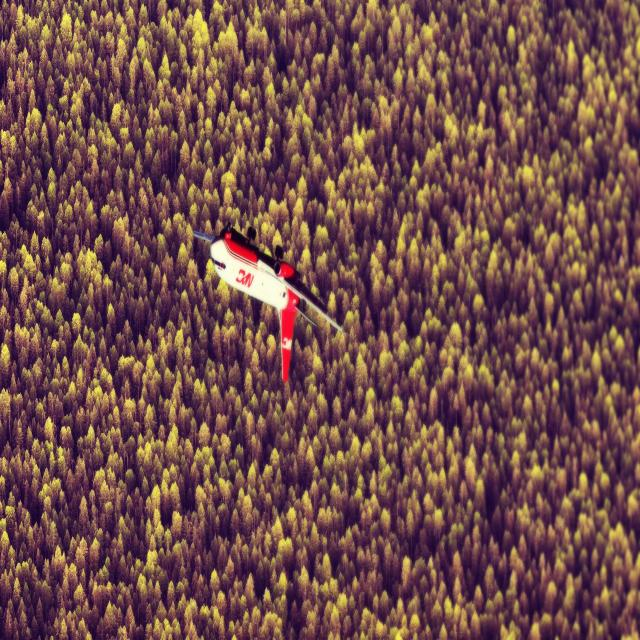airplane: (192, 221, 344, 383)
